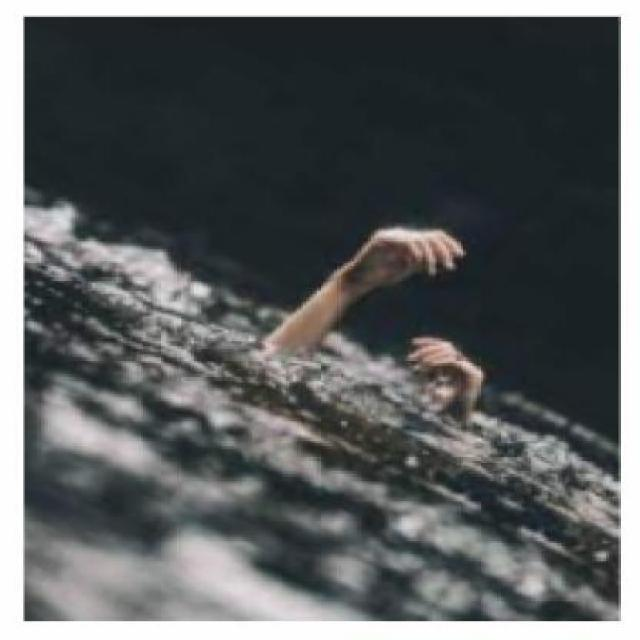drowning: (264, 216, 493, 427)
